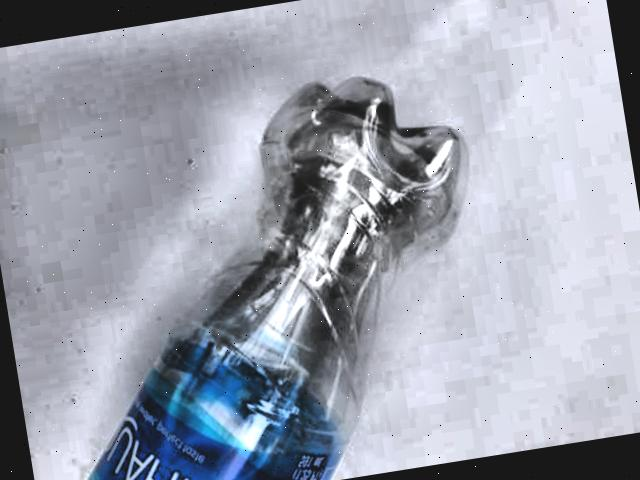Bottles: (0, 33, 555, 480)
